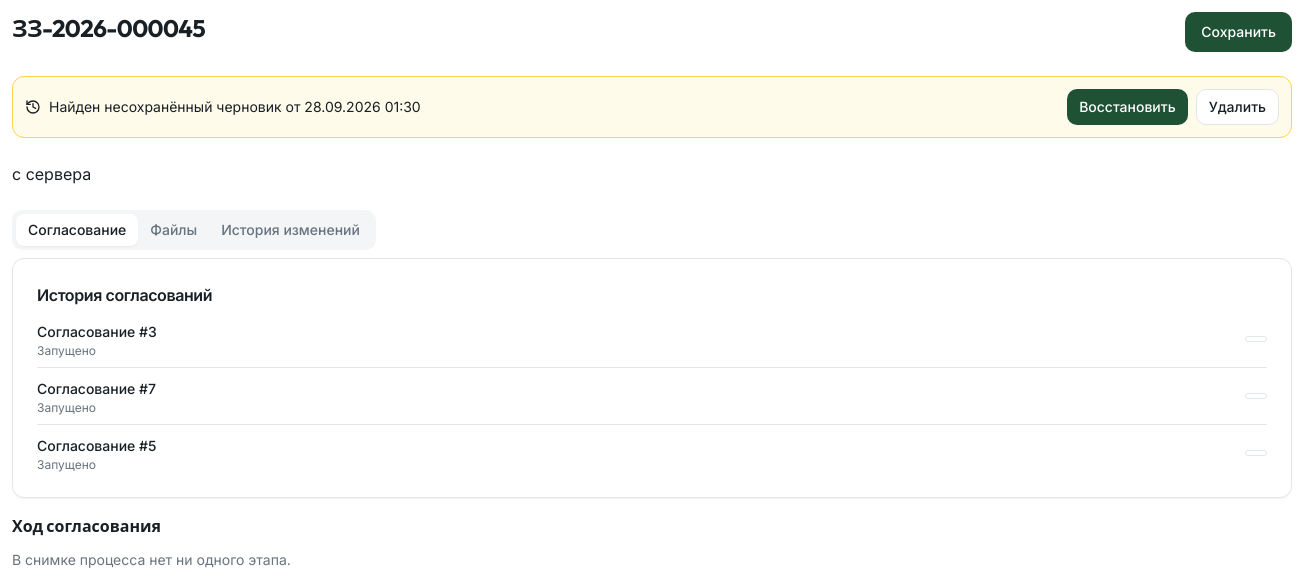
BppDocumentShell — черновик › плашка «Найден несохранённый черновик» восстанавливает значение
Expected: the text "Найден несохранённый черновик от 28.09.2026 01:30" is shown, [25,97,421,117]
Step 1. Click the button "Восстановить" → click(1127, 107), box [1067,89,1188,125]
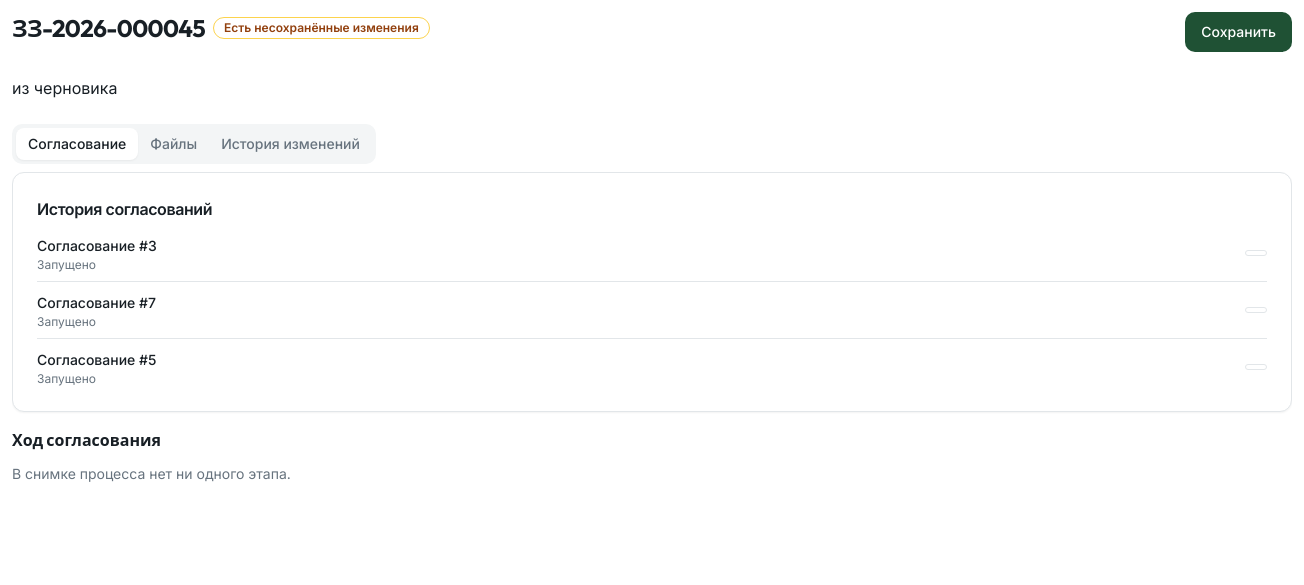
Now the field named "Название" holds "из черновика", box [12,76,246,100]
Now the text "Найден несохранённый черновик" is gone
Now the text "Есть несохранённые изменения" is shown, box [213,17,430,39]
